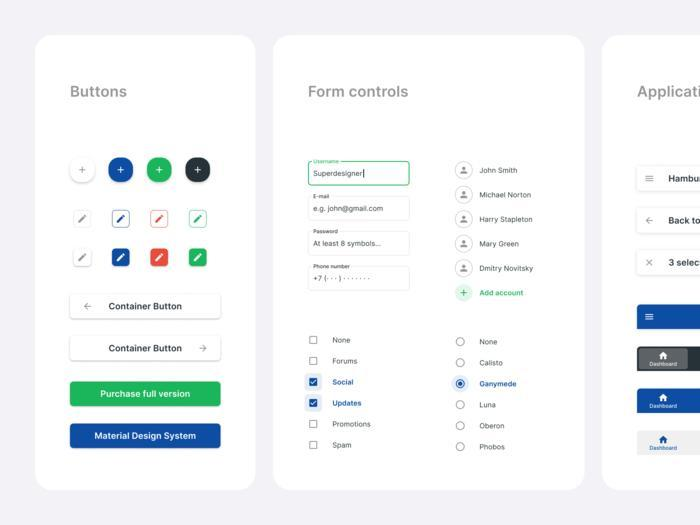button: (71, 294, 223, 321), (71, 335, 222, 361), (70, 424, 223, 449), (71, 383, 222, 408)
checkbox: (309, 378, 319, 388), (310, 399, 318, 408), (310, 441, 318, 450), (310, 336, 318, 344), (310, 358, 318, 366), (310, 422, 318, 429)
icon: (154, 214, 166, 226), (115, 215, 127, 227), (77, 215, 89, 227), (76, 252, 88, 264), (193, 214, 204, 226), (644, 174, 656, 185), (659, 351, 670, 363), (658, 436, 671, 446), (116, 253, 127, 264), (154, 253, 165, 263), (193, 253, 204, 263), (155, 166, 166, 176), (460, 166, 470, 177), (644, 313, 656, 322), (646, 258, 656, 268), (194, 167, 205, 176), (79, 166, 88, 176), (117, 167, 127, 176), (461, 191, 470, 201), (461, 215, 470, 225), (461, 264, 470, 274), (461, 240, 470, 249), (660, 394, 669, 403), (461, 289, 469, 299), (646, 217, 654, 226)
input: (309, 265, 411, 292), (309, 232, 411, 257), (310, 162, 410, 187), (310, 197, 411, 221)
label: (477, 263, 534, 276), (480, 215, 536, 228), (476, 189, 534, 201), (479, 237, 525, 250), (332, 419, 374, 433), (480, 288, 528, 300), (478, 167, 519, 178), (330, 356, 362, 369), (480, 380, 519, 390), (332, 399, 365, 410), (478, 421, 507, 433), (478, 443, 509, 453), (331, 377, 361, 387), (478, 359, 506, 369), (331, 441, 356, 452), (478, 337, 503, 347), (478, 400, 499, 411), (331, 336, 355, 345)
radio: (453, 376, 471, 393), (455, 400, 468, 412), (455, 421, 467, 432), (455, 442, 467, 453), (456, 337, 467, 348), (455, 359, 467, 369)
